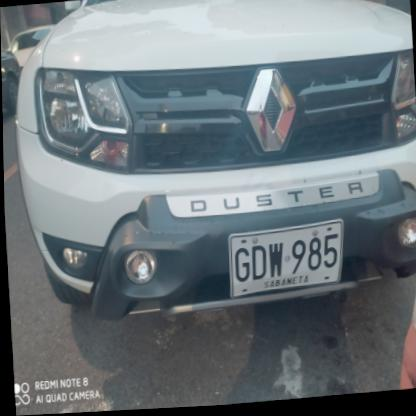placa: (220, 221, 348, 304)
